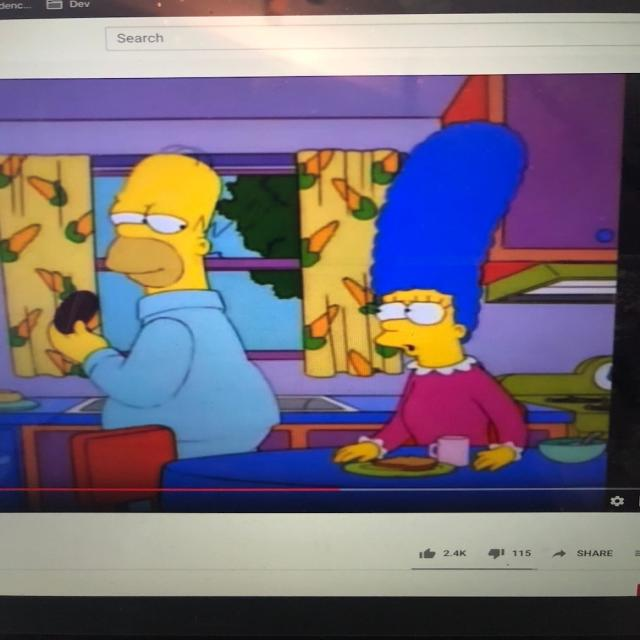Homer Simpson: (100, 142, 227, 295)
Marge Simpson: (364, 117, 534, 382)
